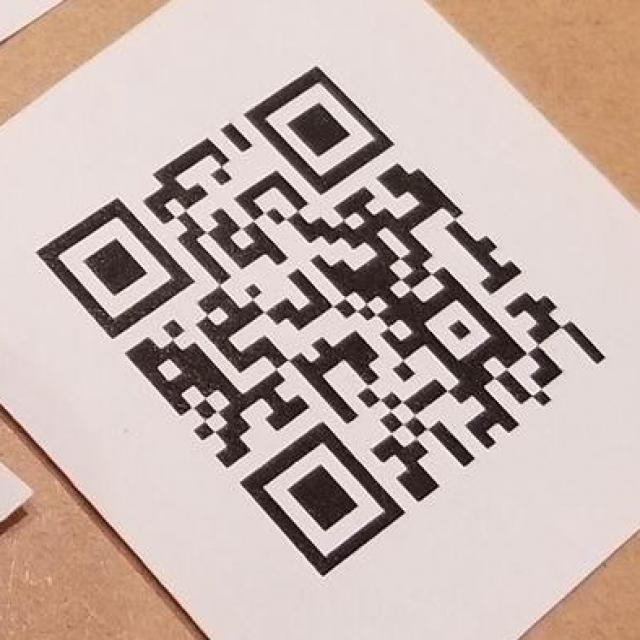QR_CODE: (32, 63, 606, 577)
